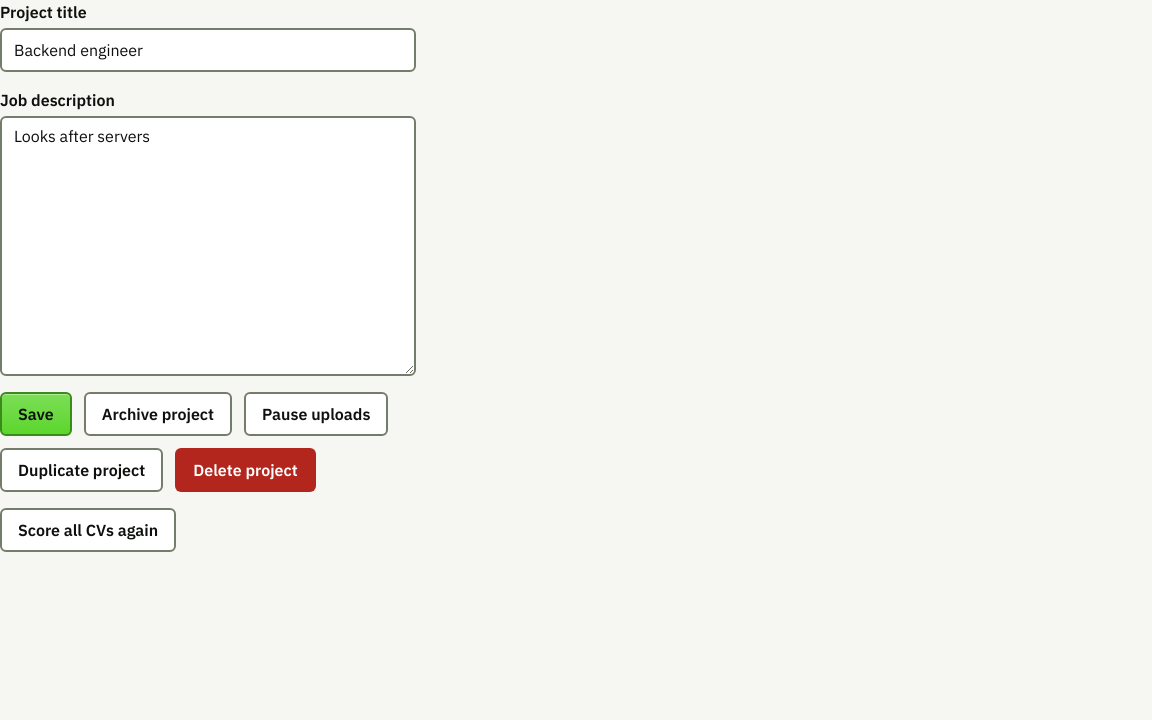
Test: project settings › Save sends the changes and confirms in a popup
Replace the text in the field labelled "Project title" with "New title" at (208, 50), box [0,28,416,72]
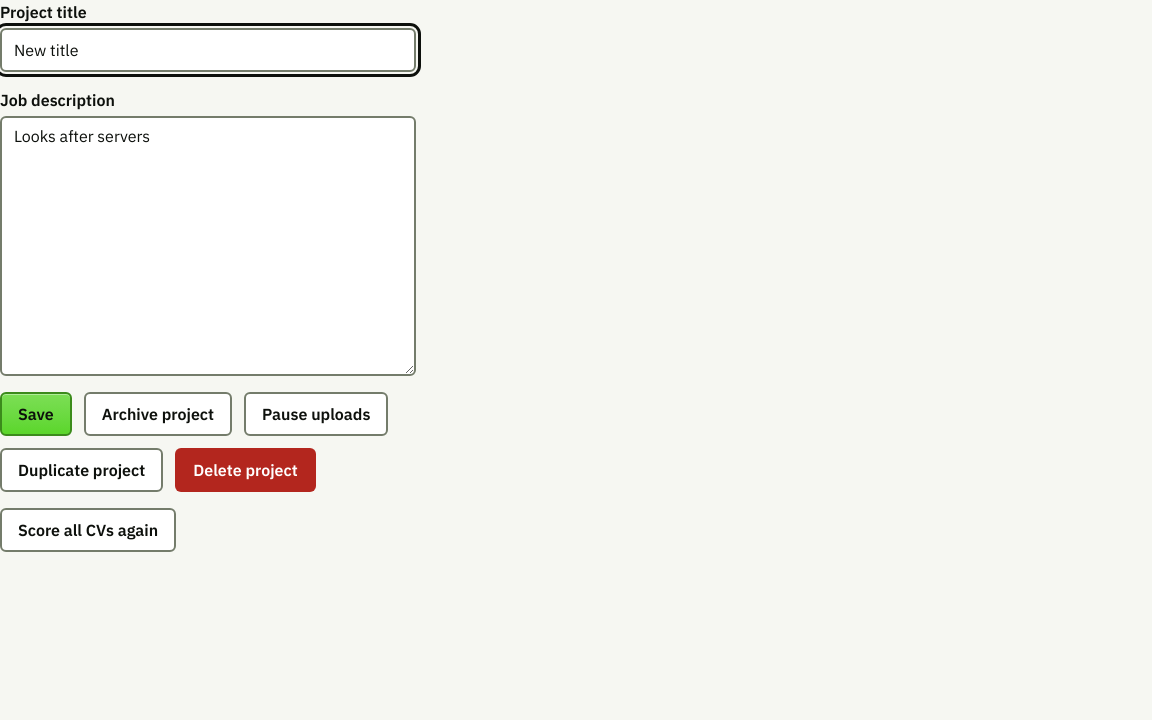
Click the button "Save".
click(36, 414)  # box [0,392,72,436]
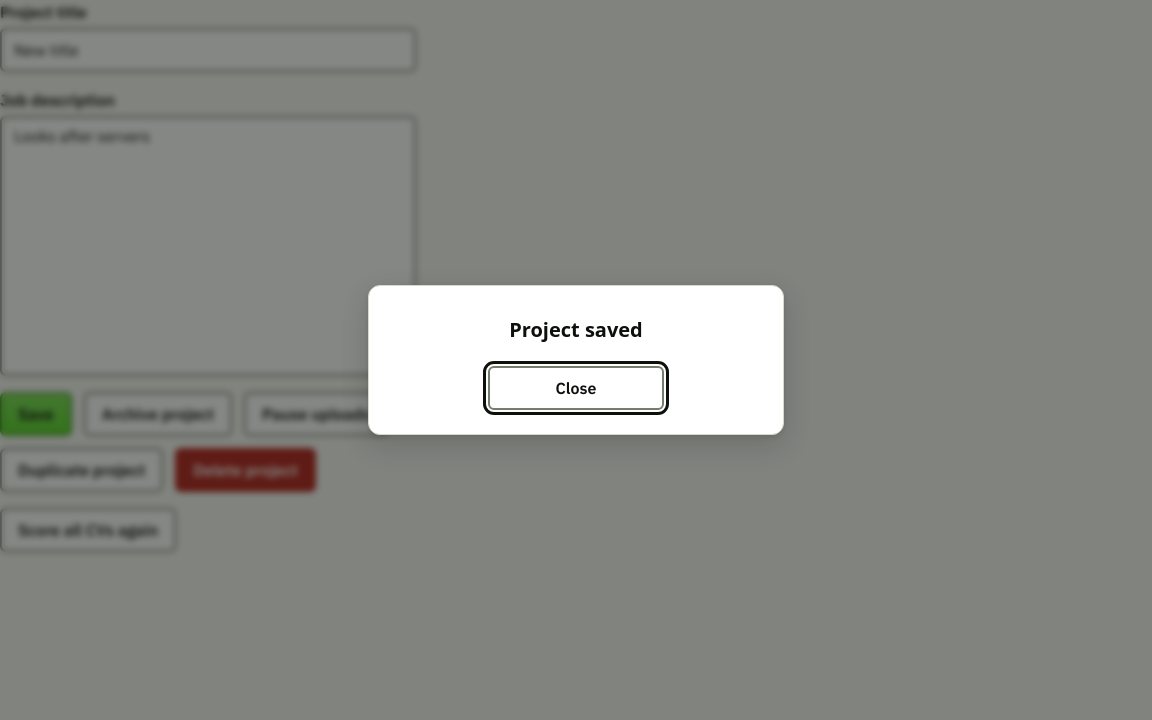
Now the heading "Project saved" is shown, box [509,316,643,343]
